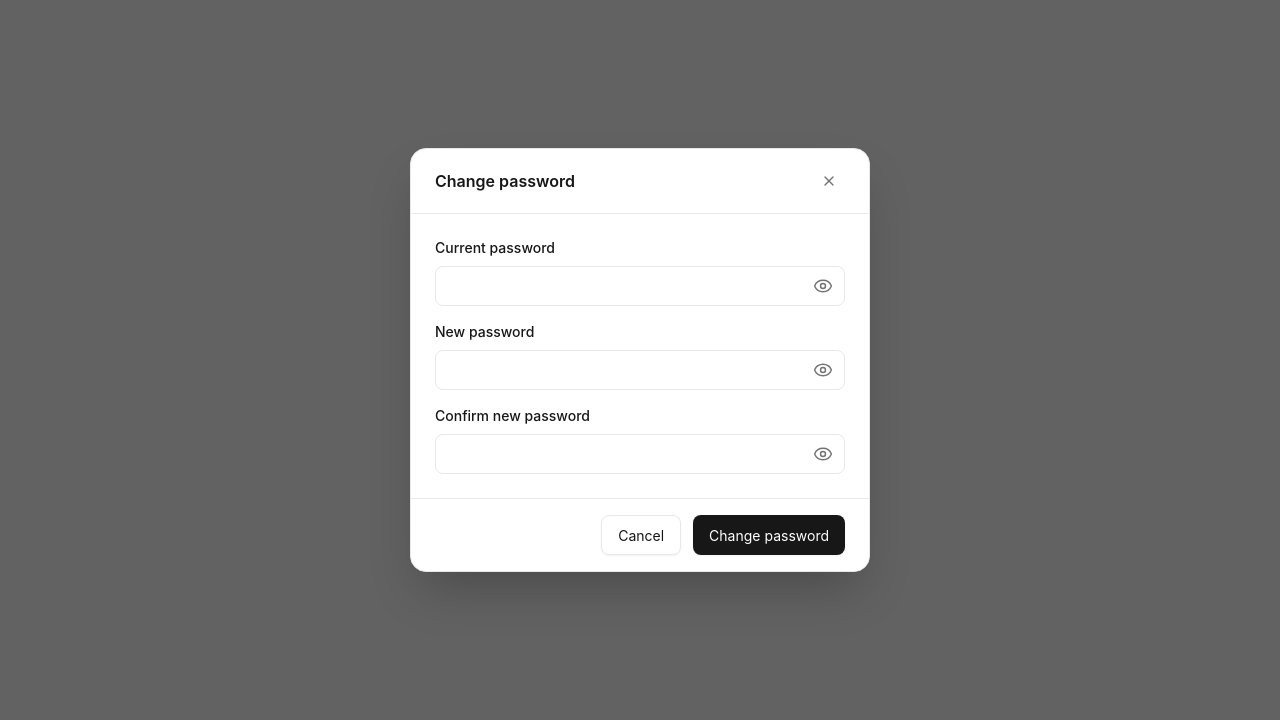
Test case: ChangePasswordDialog › stores the fresh token and shows success on a successful change
The width and height of the screenshot is (1280, 720).
Type "currentpass1" into the password field labelled "Current password" at (640, 286), box [435,266,845,306]
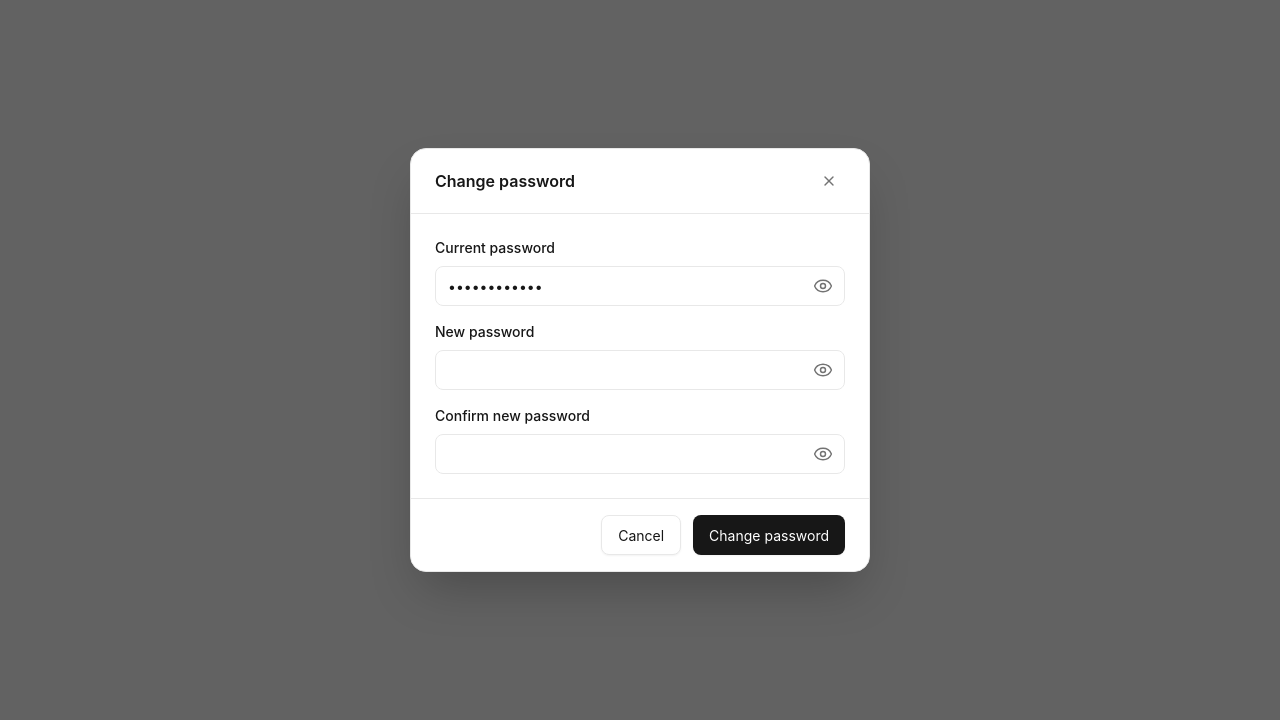
Type "brandnewpass1" into the password field labelled "New password" at (640, 370), box [435,350,845,390]
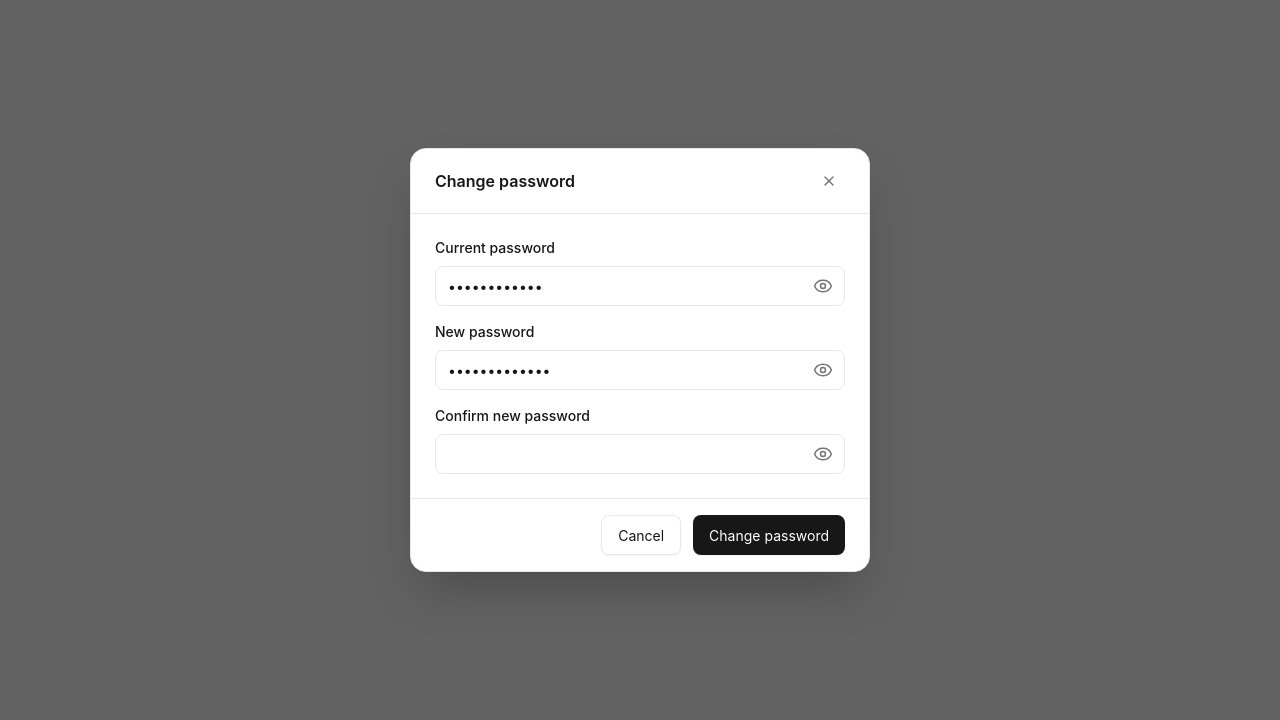
Type "brandnewpass1" into the password field labelled "Confirm new password" at (640, 454), box [435,434,845,474]
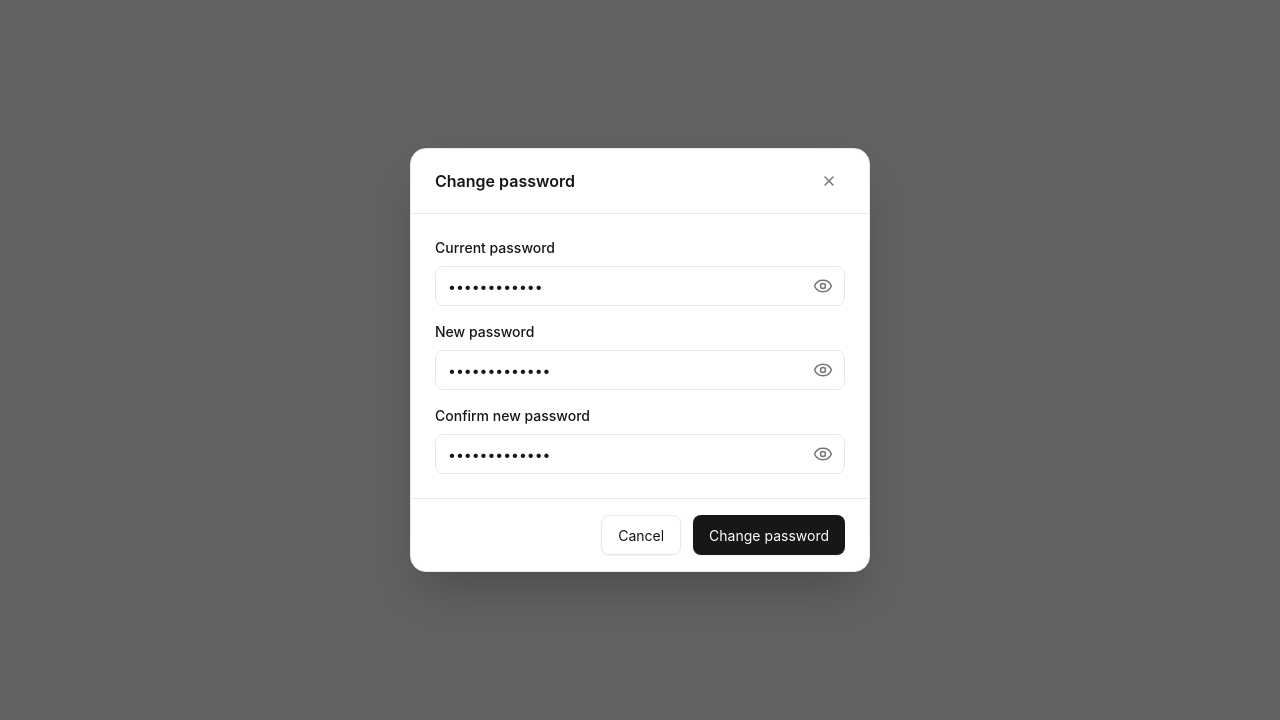
Click the button "Change password" at (769, 535), box [693,515,845,555]
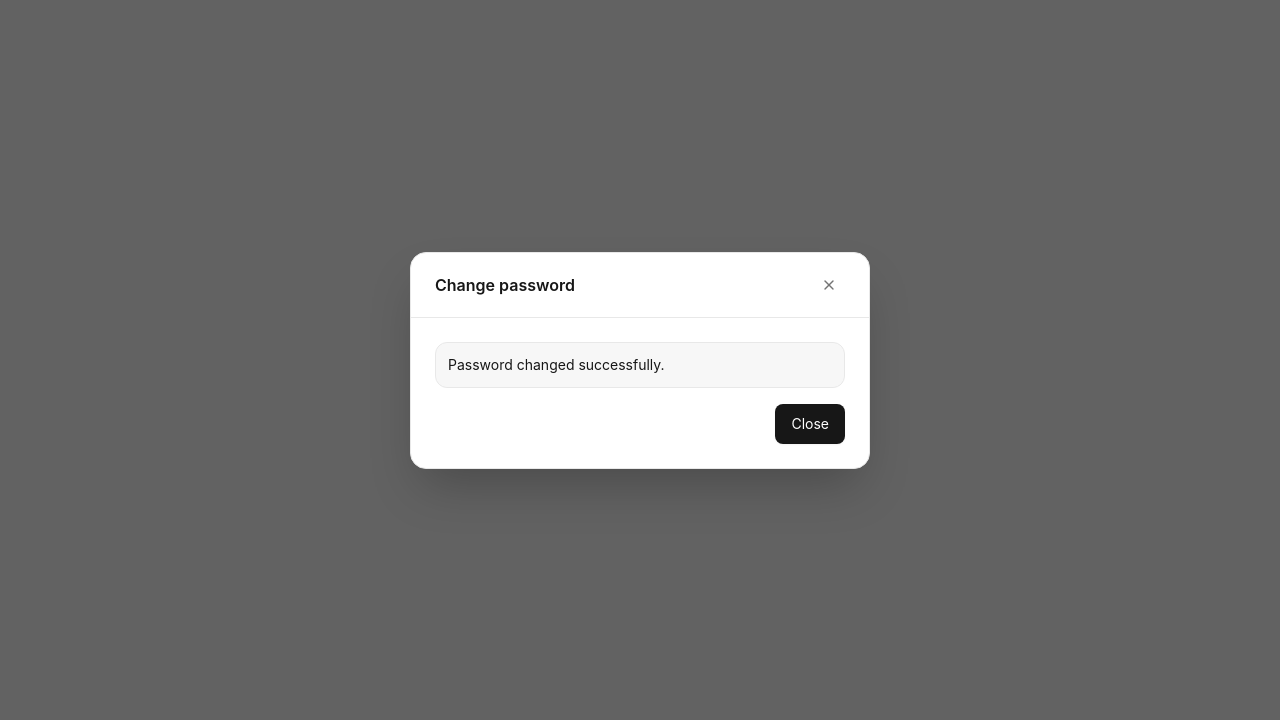
expect the text "Password changed successfully." is shown: met, box [435,342,845,388]
